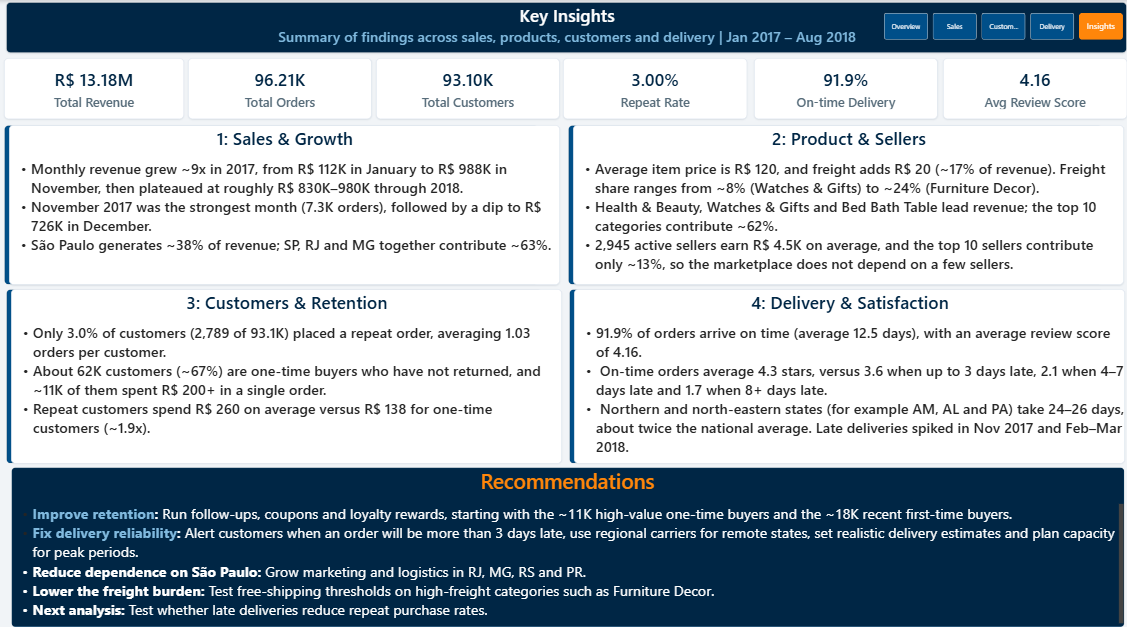

The page's visual inventory and layout, read from the dashboard file:
{"tool":"powerbi","page":{"name":"Insights","canvas":[1920,1060],"ordinal":4},"visuals":[{"type":"textbox","title":"Key Insights","box":[16.8,3.4,1886.1,85.8],"z":0},{"type":"card","fields":{"Values":["_Measures.Total Revenue"]},"box":[13.5,97.6,302.9,102.6],"z":1000},{"type":"card","fields":{"Values":["_Measures.Total Orders"]},"box":[323.4,97,309.2,103.1],"z":2000},{"type":"card","fields":{"Values":["_Measures.Total Customers"]},"box":[638.7,97,309.2,103.1],"z":3000},{"type":"card","fields":{"Values":["_Measures.Repeat Rate %"]},"box":[953.9,97,310,103.1],"z":4000},{"type":"card","fields":{"Values":["_Measures.On-time %"]},"box":[1275.3,97,309.2,103.1],"z":5000},{"type":"card","fields":{"Values":["_Measures.Avg Review Score"]},"box":[1592.6,97,310,103.1],"z":6000},{"type":"shape","box":[13.4,210.8,900,268.9],"z":7000},{"type":"textbox","title":"1: Sales & Growth","box":[22.3,210.8,926.7,268.9],"z":8000},{"type":"shape","box":[962.2,211.1,900,268.9],"z":9000},{"type":"textbox","title":"2: Product & Sellers","box":[971.1,211.1,926.7,268.9],"z":10000},{"type":"shape","box":[17,485.5,903.1,293.7],"z":11000},{"type":"textbox","title":"3: Customers & Retention","box":[25.5,485.5,926.9,293.7],"z":12000},{"type":"shape","box":[964.2,485.5,899.7,293.7],"z":13000},{"type":"textbox","title":"4: Delivery & Satisfaction","box":[972.5,486.3,930.4,292.8],"z":14000},{"type":"shape","title":"Recommendations","box":[25.5,786,1874.2,269.9],"z":15000},{"type":"textbox","title":"Recommendations","box":[25.5,786,1872.5,268.2],"z":16000},{"type":"pageNavigator","box":[1493.9,22.1,404,45.8],"z":16001}]}

Visuals, with their boxes in screenshot pixels (x1, y1, x2, y2), scaled from the page's 1920x1060 canvas onto the 1127x627 screenshot:
"Key Insights" textbox: (left=10, top=2, right=1117, bottom=53)
card - _Measures.Total Revenue: (left=8, top=58, right=186, bottom=118)
card - _Measures.Total Orders: (left=190, top=57, right=371, bottom=118)
card - _Measures.Total Customers: (left=375, top=57, right=556, bottom=118)
card - _Measures.Repeat Rate %: (left=560, top=57, right=742, bottom=118)
card - _Measures.On-time %: (left=749, top=57, right=930, bottom=118)
card - _Measures.Avg Review Score: (left=935, top=57, right=1117, bottom=118)
shape: (left=8, top=125, right=536, bottom=284)
"1: Sales & Growth" textbox: (left=13, top=125, right=557, bottom=284)
shape: (left=565, top=125, right=1093, bottom=284)
"2: Product & Sellers" textbox: (left=570, top=125, right=1114, bottom=284)
shape: (left=10, top=287, right=540, bottom=461)
"3: Customers & Retention" textbox: (left=15, top=287, right=559, bottom=461)
shape: (left=566, top=287, right=1094, bottom=461)
"4: Delivery & Satisfaction" textbox: (left=571, top=288, right=1117, bottom=461)
"Recommendations" shape: (left=15, top=465, right=1115, bottom=625)
"Recommendations" textbox: (left=15, top=465, right=1114, bottom=624)
pageNavigator: (left=877, top=13, right=1114, bottom=40)
